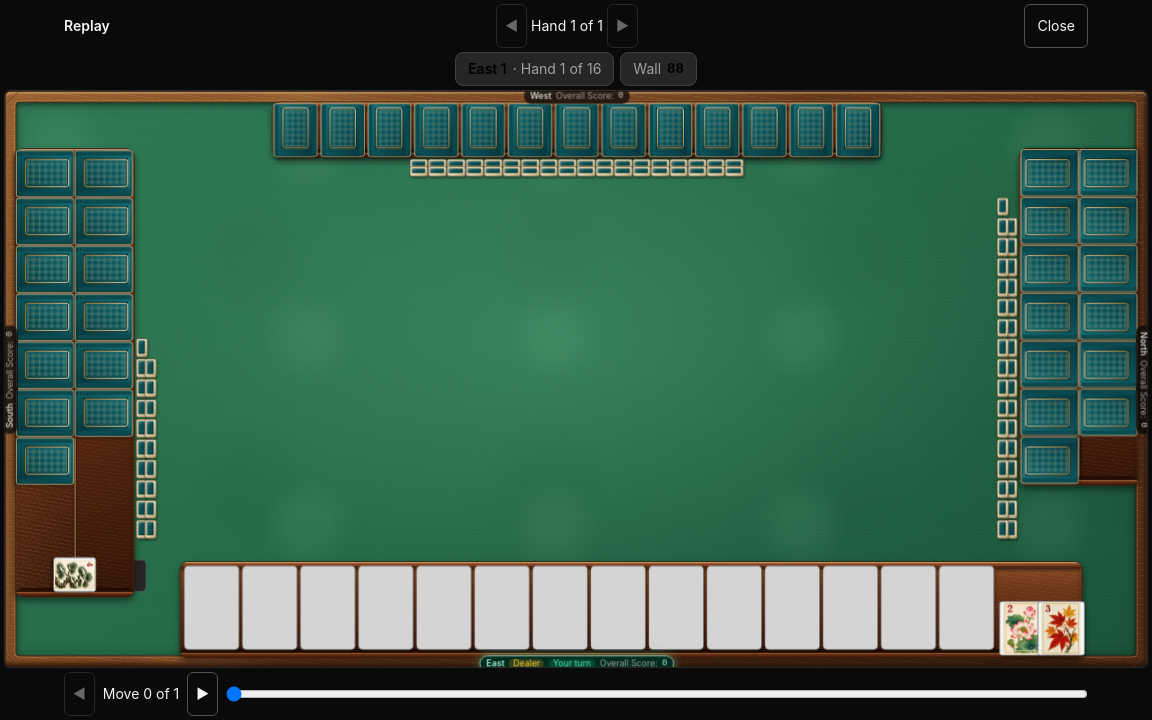
Test: ReplayView › scrubbing to the next move shows the discard actually happening
The image size is (1152, 720).
Click the button named "Next move" at (203, 694), box [187,672,218,716]
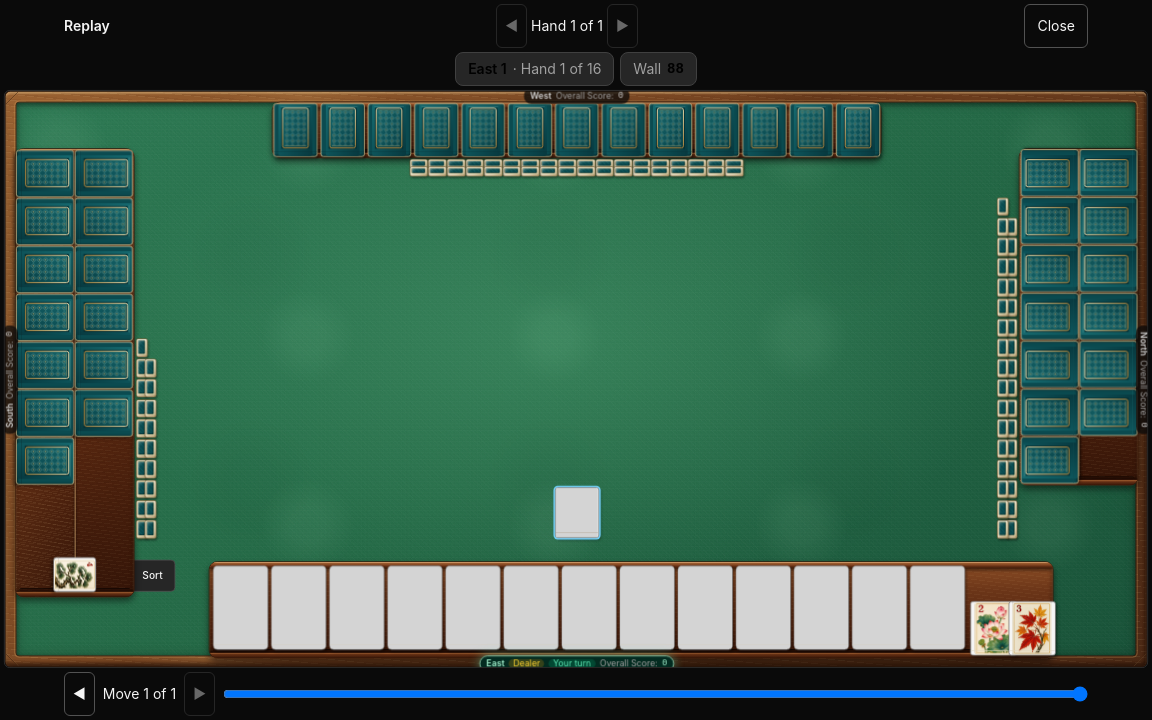
expect the text with test id "replay-move-indicator" reads "Move 1 of 1": met, box [103,684,176,704]
